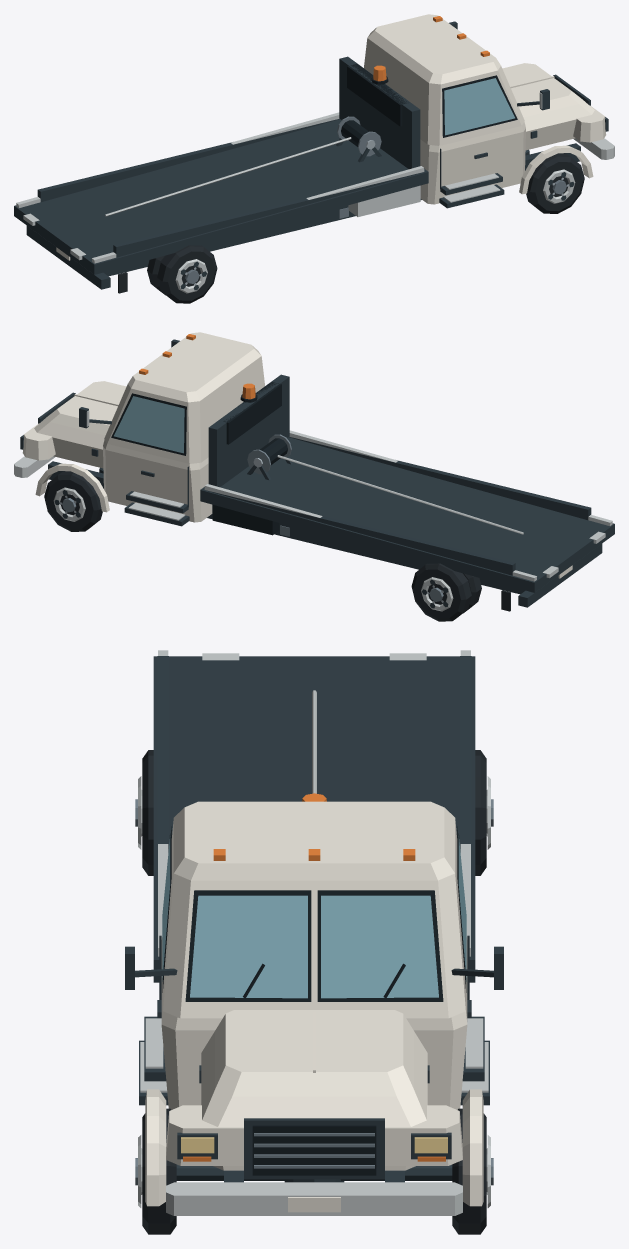
Rendered from b15_rollback_tow_truck.glb.
The picture shows the model from 3 angles, top to bottom: view 1: azimuth 30°, elevation 25°; view 2: azimuth 150°, elevation 25°; view 3: azimuth 270°, elevation 25°; orthographic projection. The views are drawn at different scales.
Visible parts, largest first — view 1: b15_rollback_tow_truck; view 2: b15_rollback_tow_truck; view 3: b15_rollback_tow_truck.
Boxes of the visible parts, left/top/right/bottom form: b15_rollback_tow_truck: left=14, top=14, right=614, bottom=303; b15_rollback_tow_truck: left=14, top=332, right=614, bottom=621; b15_rollback_tow_truck: left=125, top=650, right=503, bottom=1234.
Bounding box in the file's own units: 9.27 × 2.71 × 2.87.
